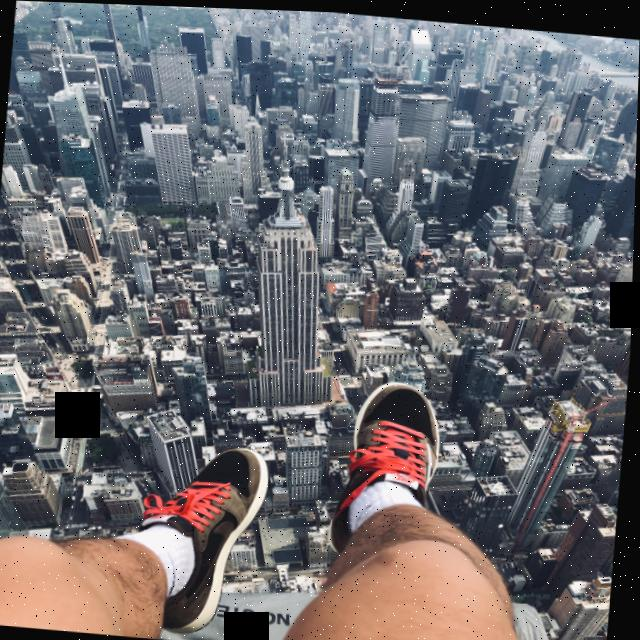shoes: (118, 422, 284, 640), (332, 371, 470, 561)
